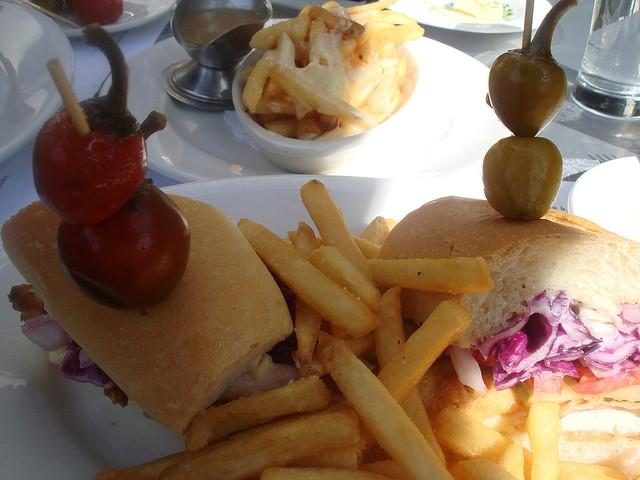tomato: (32, 22, 148, 227), (59, 180, 190, 314), (574, 366, 640, 395), (72, 0, 123, 24), (524, 376, 563, 392), (468, 347, 494, 368)
